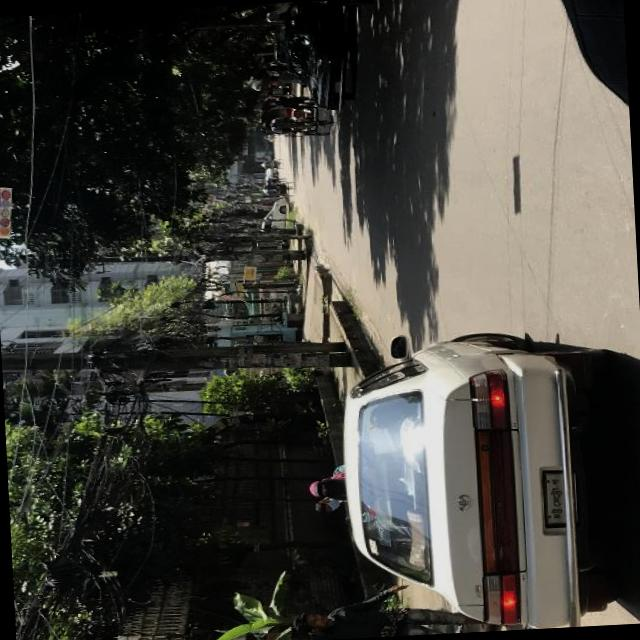car: (335, 324, 624, 635), (282, 0, 355, 111), (270, 28, 286, 66), (264, 169, 278, 184)
motorcycle: (258, 104, 332, 138), (258, 91, 310, 113), (260, 181, 292, 198), (259, 159, 281, 170), (258, 135, 276, 143)
truck: (257, 201, 288, 233)
